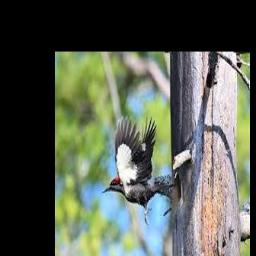Woodpecker: (101, 116, 176, 225)
